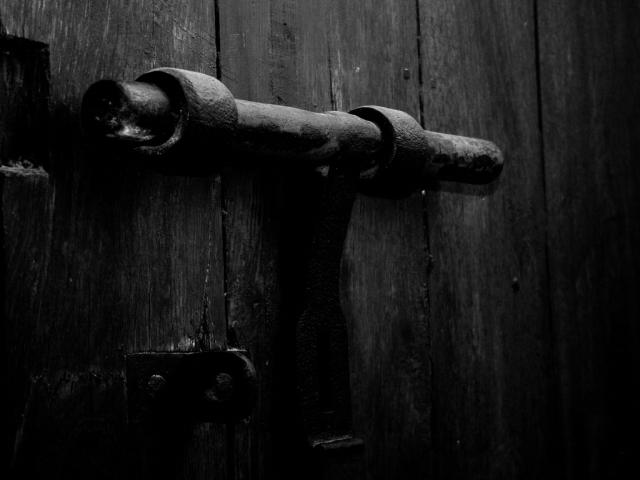Door-handle: (72, 62, 513, 480)
